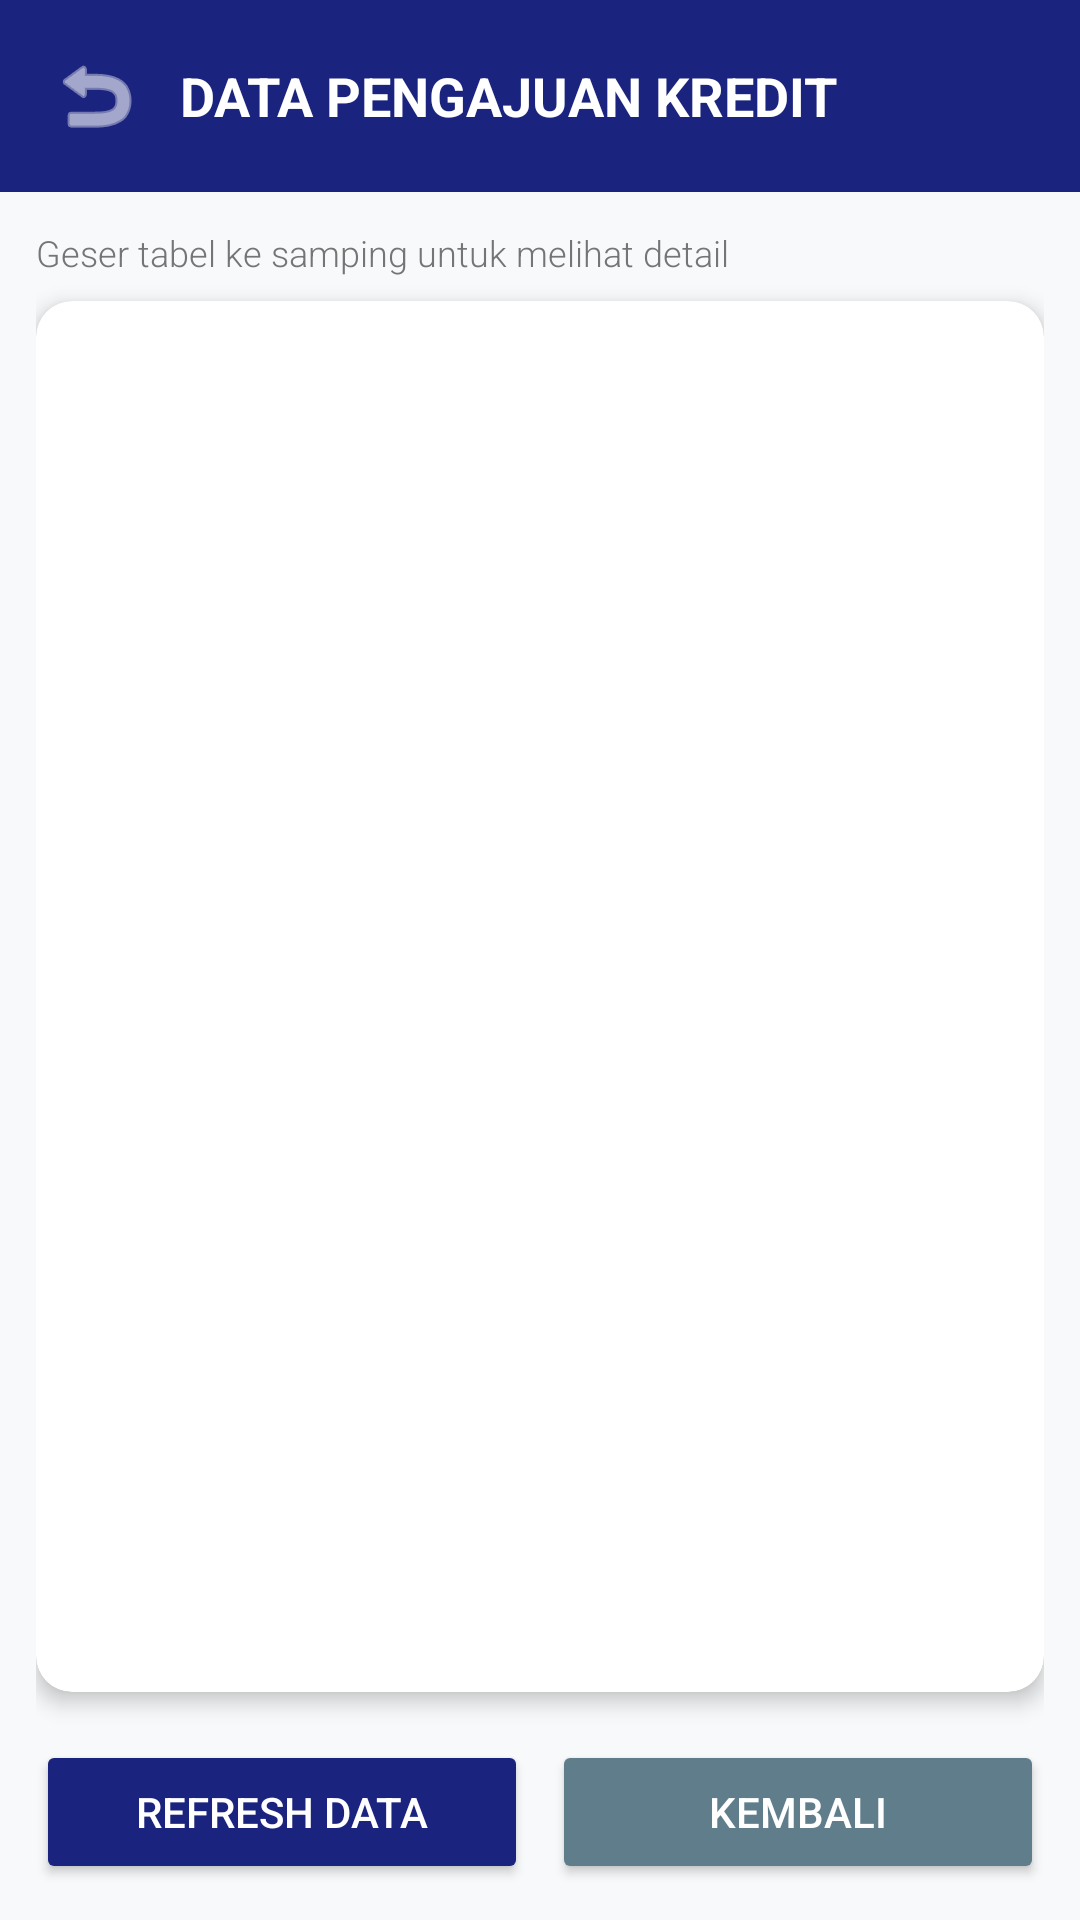

Icon bounding boxes for this 1080x1920 phone screenshot, format bbox=(x1, y1, x2, y2):
Kembali: bbox=(63, 65, 132, 128)
